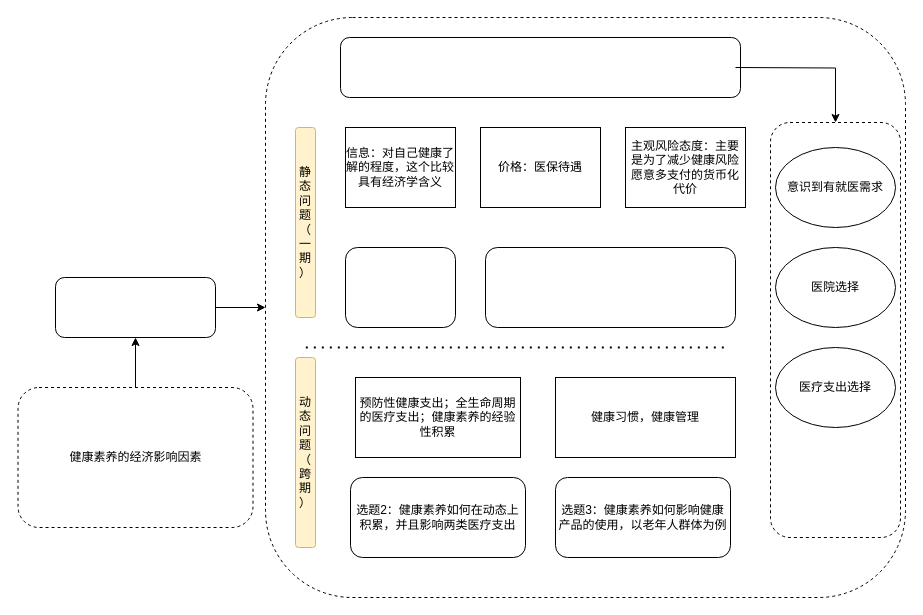
This 923x615 diagram has some shape labels left out. The centre of each missing label's shape, as x and y in pixels:
"健康素养" belongs at [135,307].
"就医决策就像消费决策或者任何其他决策一样，受到以下经济学因素的影响" belongs at [540,67].
"选题0：健康素养：如何影响了解自己健康行为的能力，包括使用数字健康产品" belongs at [400,287].
"选题1：健康素养如何影响患者的风险态度，并通过这个渠道影响决策" belongs at [610,287].
